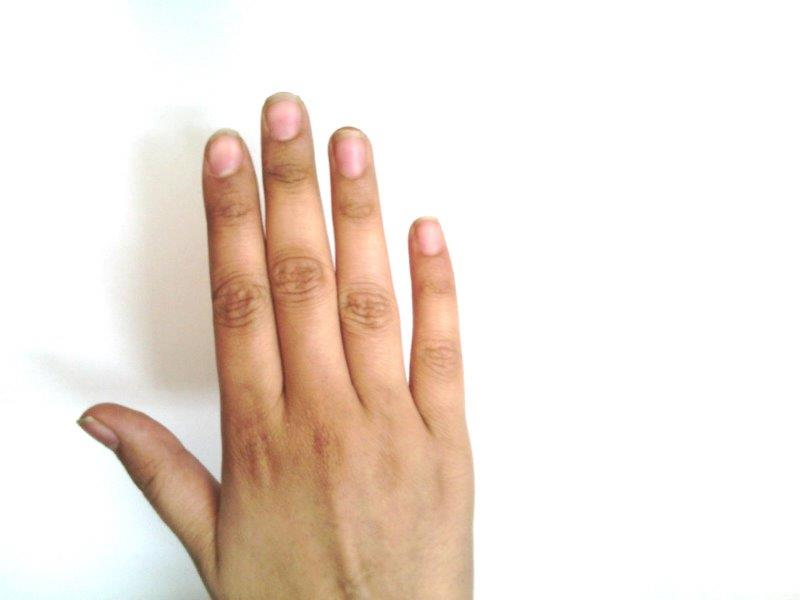hand: (79, 91, 475, 599)
